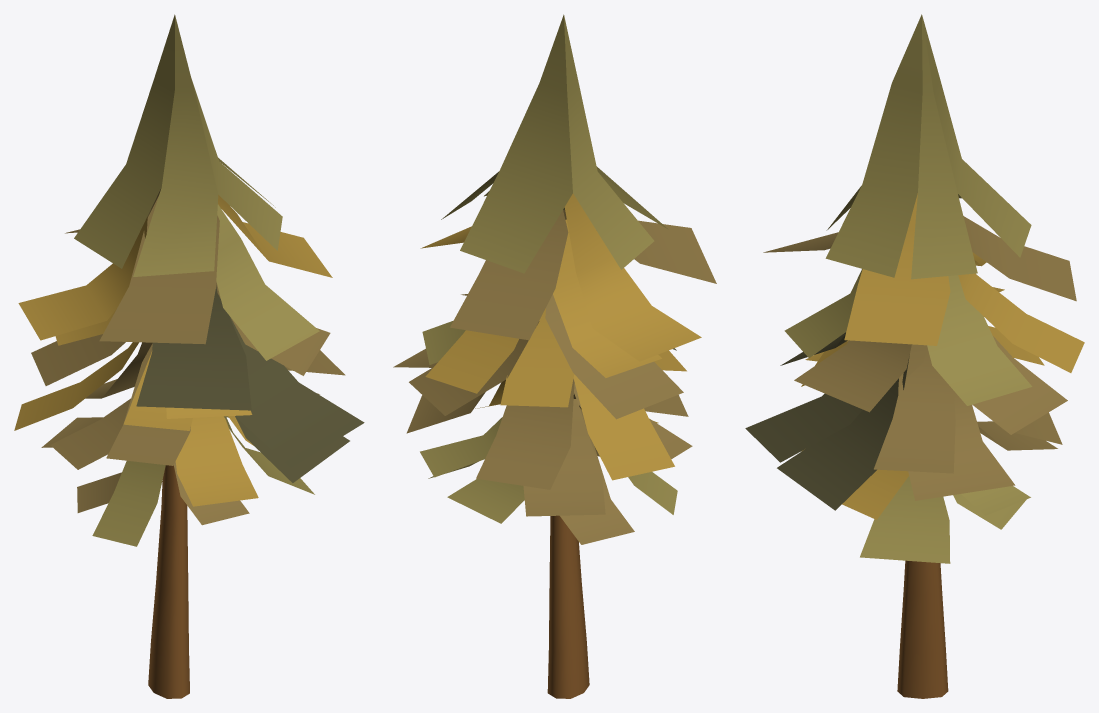
File: PolyTree01.fbx
The picture shows the model from 3 angles, left to right: view 1: azimuth 30°, elevation 25°; view 2: azimuth 150°, elevation 25°; view 3: azimuth 270°, elevation 25°; orthographic projection.
Parts seen in each view (by area): view 1: PolyTree01:pCube2; view 2: PolyTree01:pCube2; view 3: PolyTree01:pCube2.
Boxes of the visible parts, x1=… form: PolyTree01:pCube2: x1=14, y1=14, x2=364, y2=698; PolyTree01:pCube2: x1=393, y1=14, x2=716, y2=698; PolyTree01:pCube2: x1=745, y1=14, x2=1084, y2=698.
Bounding box in the file's own units: 2.57 × 5.69 × 2.57.
